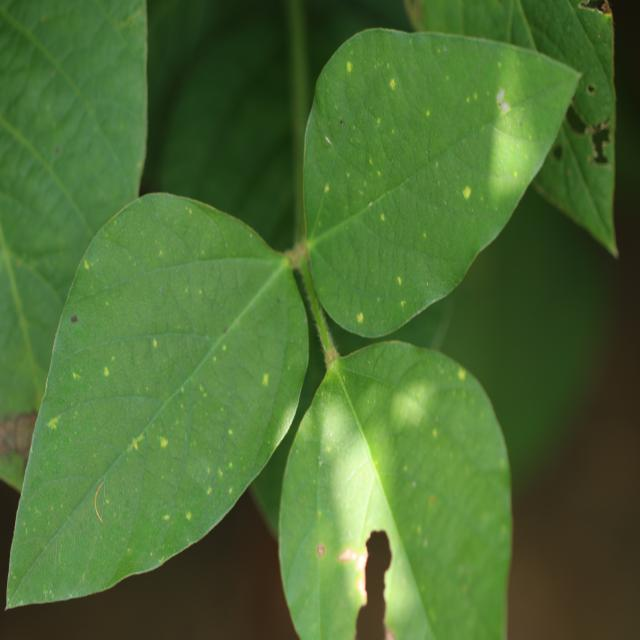Soybean: (6, 28, 586, 640)
downey_mildew: (351, 58, 534, 206), (87, 387, 210, 564), (151, 345, 258, 527), (1, 3, 104, 156), (52, 323, 216, 416), (114, 257, 282, 342), (317, 197, 420, 314), (29, 397, 166, 484), (399, 384, 505, 491), (483, 64, 581, 157), (120, 323, 200, 434), (1, 171, 77, 286), (75, 215, 182, 288), (398, 147, 491, 226), (49, 479, 113, 590), (64, 263, 192, 313), (332, 344, 422, 410), (69, 395, 174, 432), (304, 132, 334, 227)
